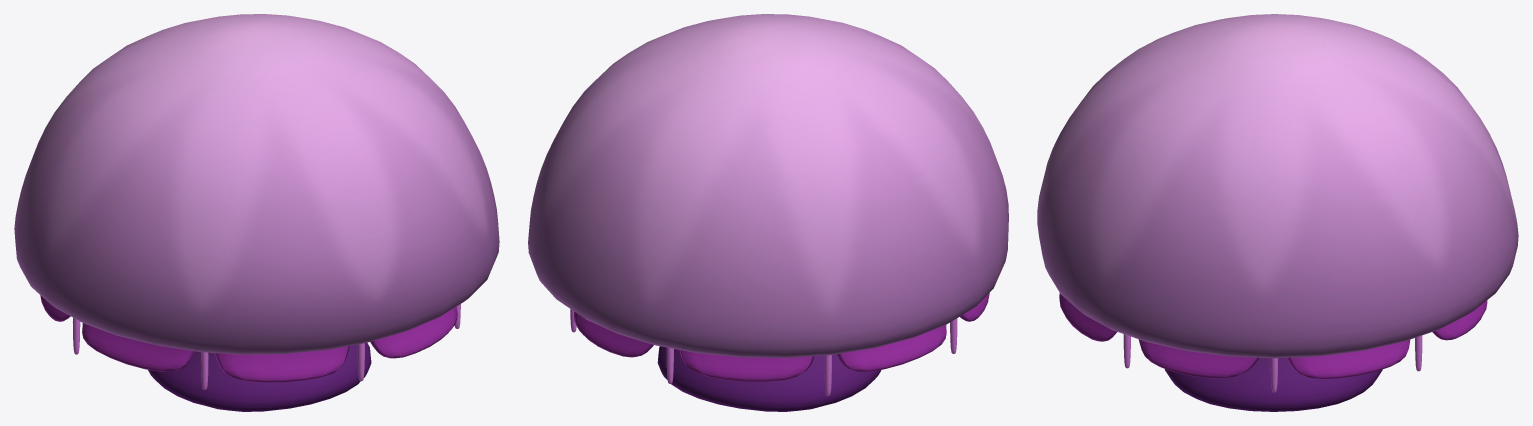
The model's file is Mushroom.fbx.
3 renders of one model, left to right at view 1: azimuth 30°, elevation 25°; view 2: azimuth 150°, elevation 25°; view 3: azimuth 270°, elevation 25°, orthographic.
Visible parts, largest first — view 1: pCylinder10; view 2: pCylinder10; view 3: pCylinder10.
Boxes of the visible parts, box(x1,y1,x2,y2) form: pCylinder10: box(14, 14, 499, 411); pCylinder10: box(528, 14, 1008, 411); pCylinder10: box(1037, 14, 1518, 411).
Bounding box in the file's own units: 2.45 × 1.85 × 2.42.
3 materials, 1 textured.
